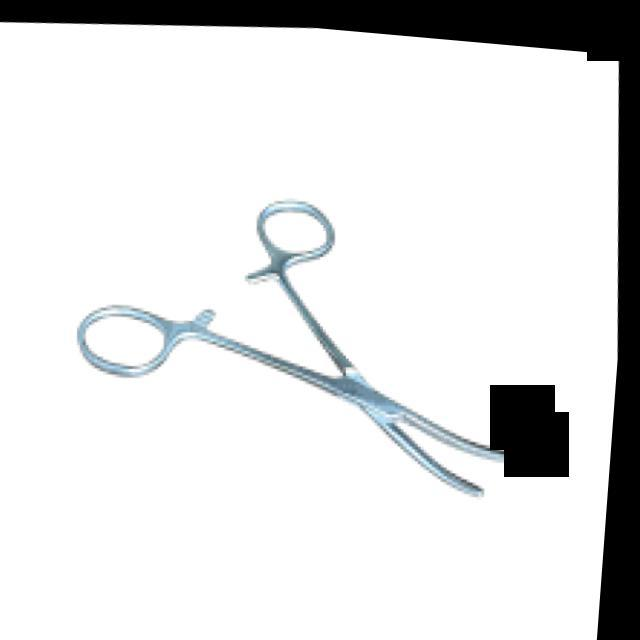Artery Forceps: (56, 143, 544, 531)
